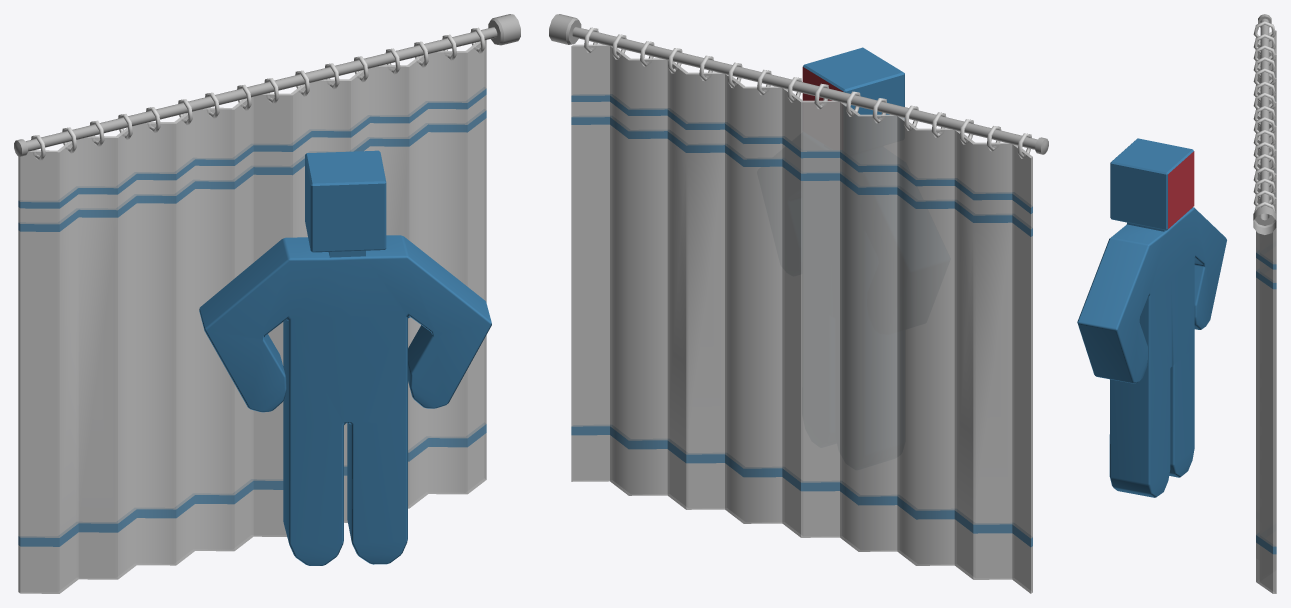
File: Person_With_Alerted_Blend.fbx
The picture shows the model from 3 angles, left to right: view 1: azimuth 30°, elevation 25°; view 2: azimuth 150°, elevation 25°; view 3: azimuth 270°, elevation 25°; orthographic projection. The views are drawn at different scales.
Parts seen in each view (by area): view 1: Oblivious; view 2: Oblivious; view 3: Oblivious.
Part boxes in pixels (x1,y1,x2,y2): Oblivious: (14, 14, 520, 593); Oblivious: (549, 14, 1048, 593); Oblivious: (1077, 14, 1276, 593).
Size of the model in its own units: 708 by 629 by 292.
